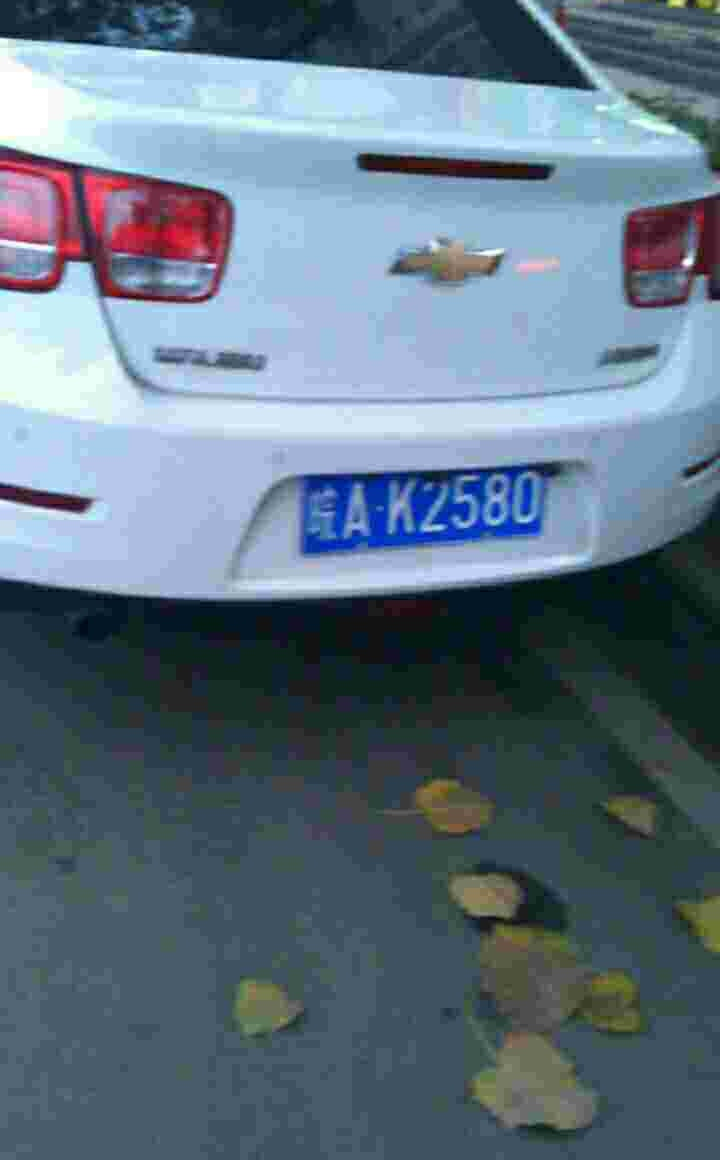license_plate: (304, 459, 542, 555)
